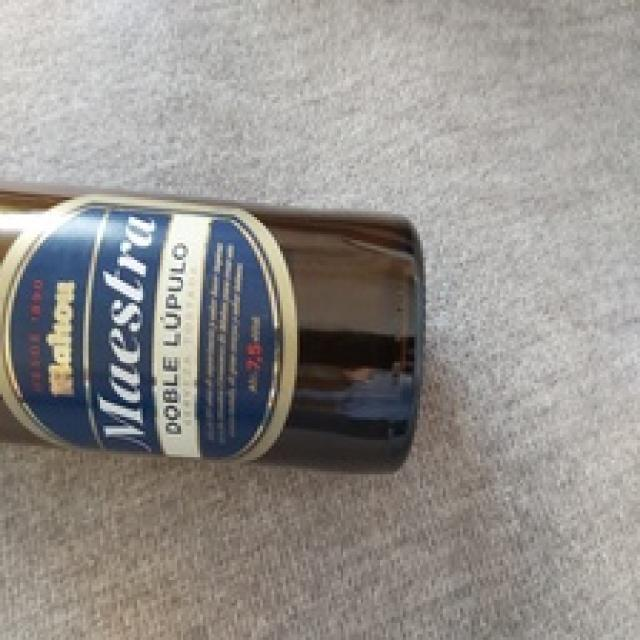garbage: (0, 148, 467, 512)
